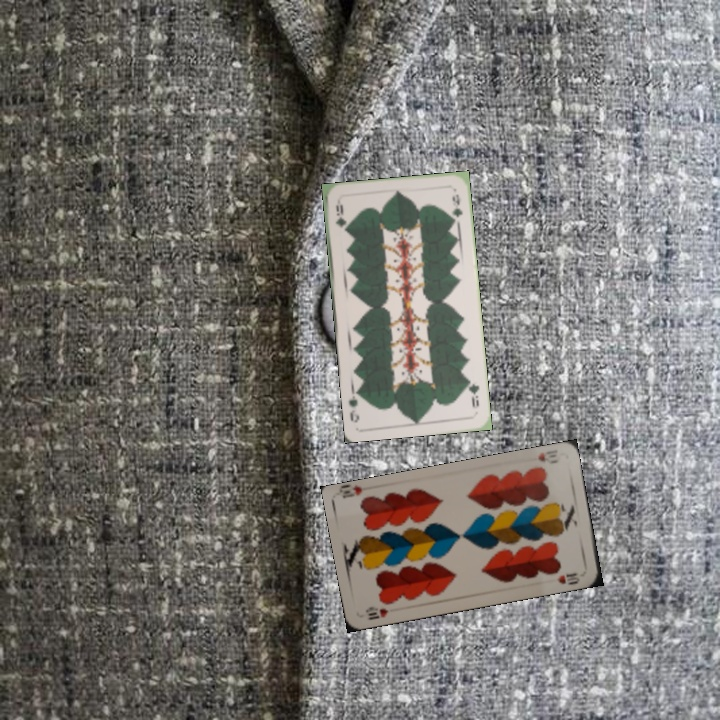G9: (463, 375, 482, 410), (332, 200, 348, 230)
H10: (362, 603, 391, 622), (534, 446, 561, 466)
